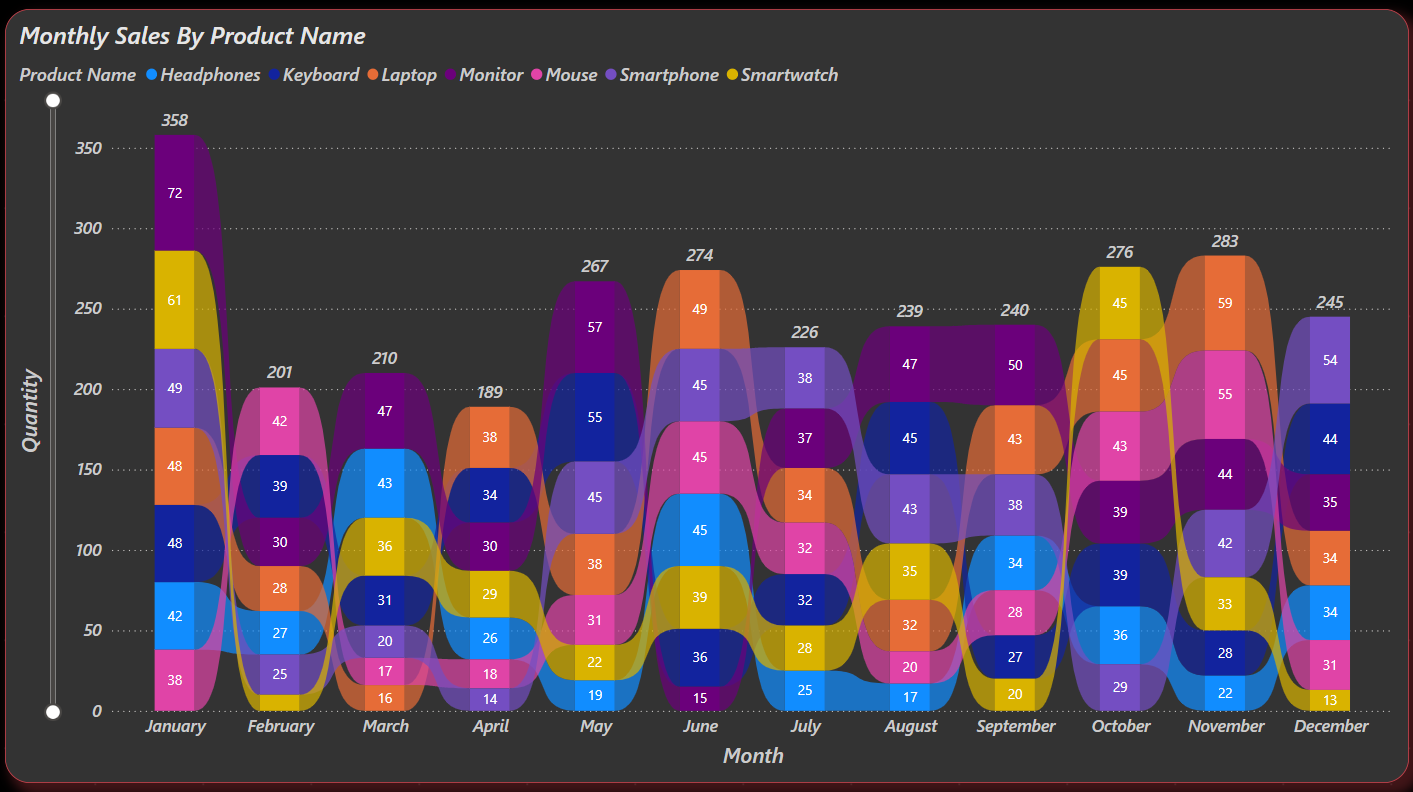

The dashboard page shown, as its layout file describes it:
{"tool":"powerbi","page":{"name":"Page 4","canvas":[1280,720],"ordinal":2},"visuals":[{"type":"ribbonChart","title":"Monthly Sales By Product Name","fields":{"Category":["realistic_e_commerce_sales_data.Order Date.Variation.Date Hierarchy.Month"],"Y":["Sum(realistic_e_commerce_sales_data.Quantity)"],"Series":["realistic_e_commerce_sales_data.Product Name"]},"box":[16,16,1248,688],"z":0}]}

Visuals, with their boxes in screenshot pixels (x1, y1, x2, y2), scaled from the page's 1280x720 canvas onto the 1413x792 screenshot:
"Monthly Sales By Product Name" ribbonChart: (left=18, top=18, right=1395, bottom=774)
